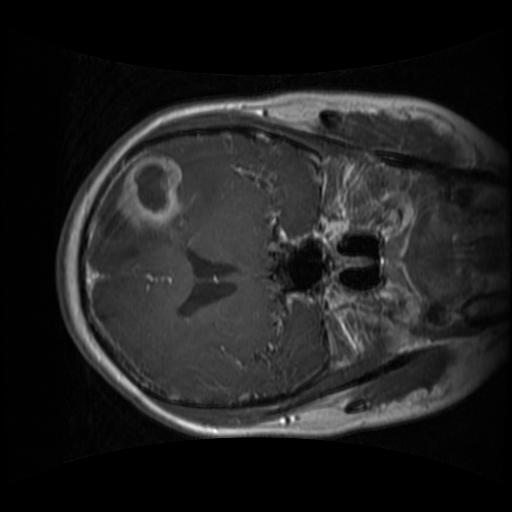glioma: (98, 147, 191, 248)
